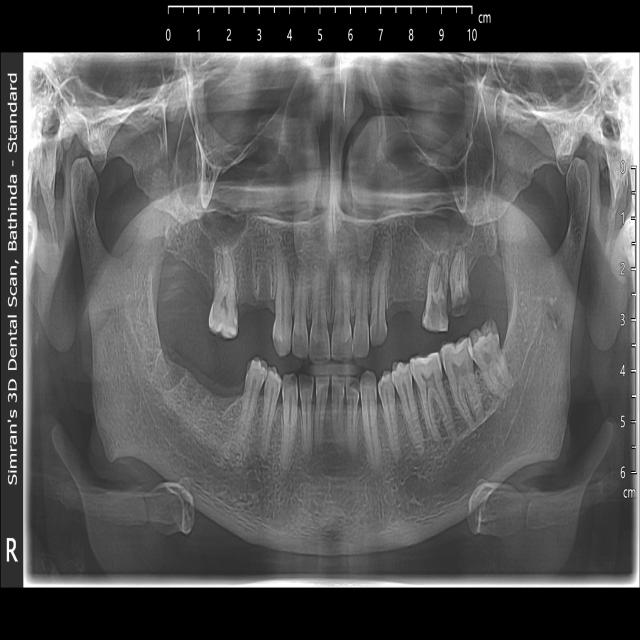Caries: (332, 321, 354, 360), (378, 368, 396, 402), (283, 373, 298, 402), (452, 294, 470, 316), (428, 305, 439, 329), (438, 299, 446, 316)
Mandibular Canal: (417, 331, 551, 501), (119, 317, 239, 498)
Missing teeth: (168, 317, 248, 409), (391, 260, 425, 333), (237, 292, 272, 361), (179, 260, 215, 322)
Periapical lesion: (438, 241, 450, 283)
maxillary sinus: (165, 76, 310, 255), (377, 77, 494, 255)
